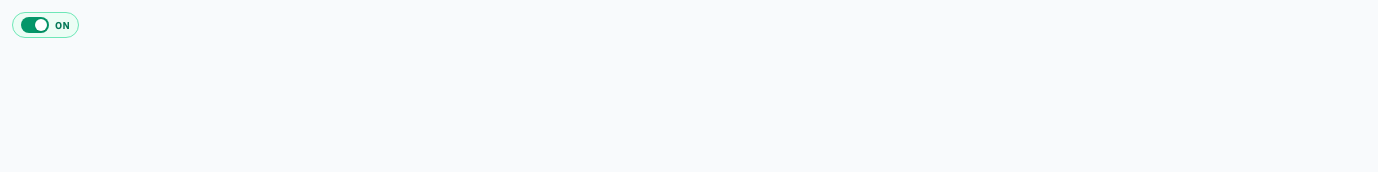
Test case: quick preset fills reason and allows turning off
The width and height of the screenshot is (1378, 172).
Later steps or results of the test are not shown.
Click the switch with test id "access-toggle-UMP0025" at (45, 25), box top-left (12, 12), bottom-right (79, 38)
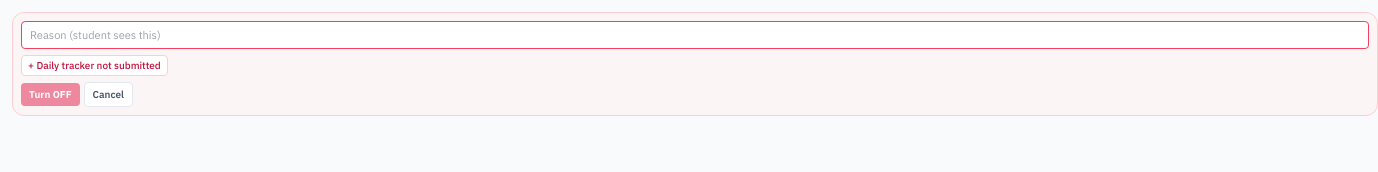
Click the button with test id "access-preset-UMP0025" at (94, 66), box top-left (21, 55), bottom-right (168, 76)
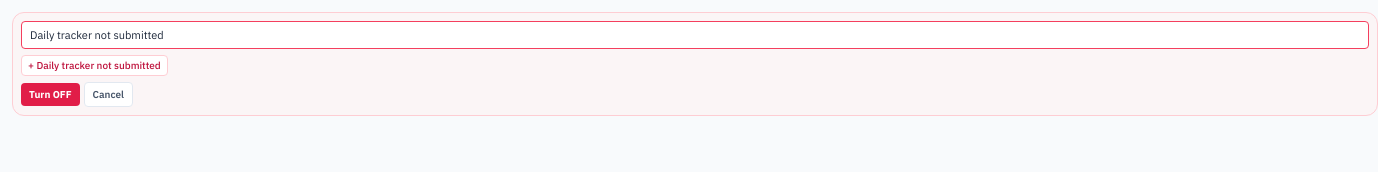
Now the button with test id "access-confirm-UMP0025" is enabled, box top-left (21, 83), bottom-right (80, 106)
